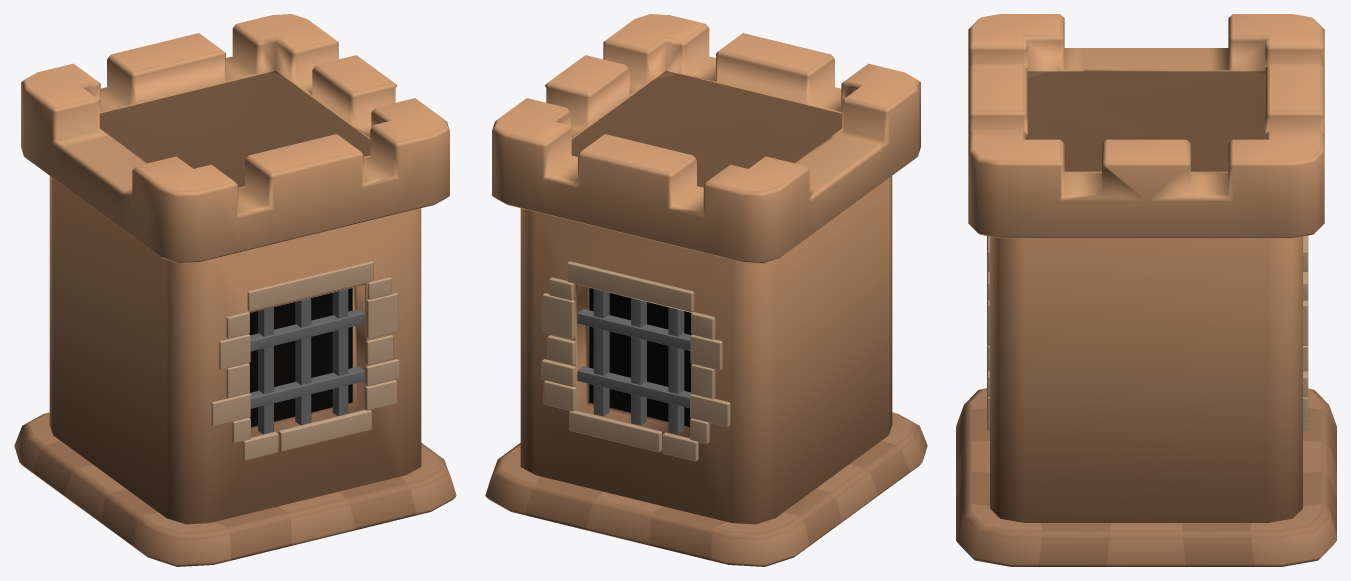
File: Checkpoint_2.fbx
3 views of the same model, side by side, from view 1: azimuth 30°, elevation 25°; view 2: azimuth 150°, elevation 25°; view 3: azimuth 270°, elevation 25° (orthographic). The views are drawn at different scales.
Visible parts, largest first — view 1: Checkpoint_2; view 2: Checkpoint_2; view 3: Checkpoint_2.
Boxes of the visible parts, box(x1,y1,x2,y2) form: Checkpoint_2: box(14, 14, 456, 566); Checkpoint_2: box(485, 14, 927, 566); Checkpoint_2: box(956, 14, 1336, 566).
Size of the model in its own units: 281 by 326 by 281.
